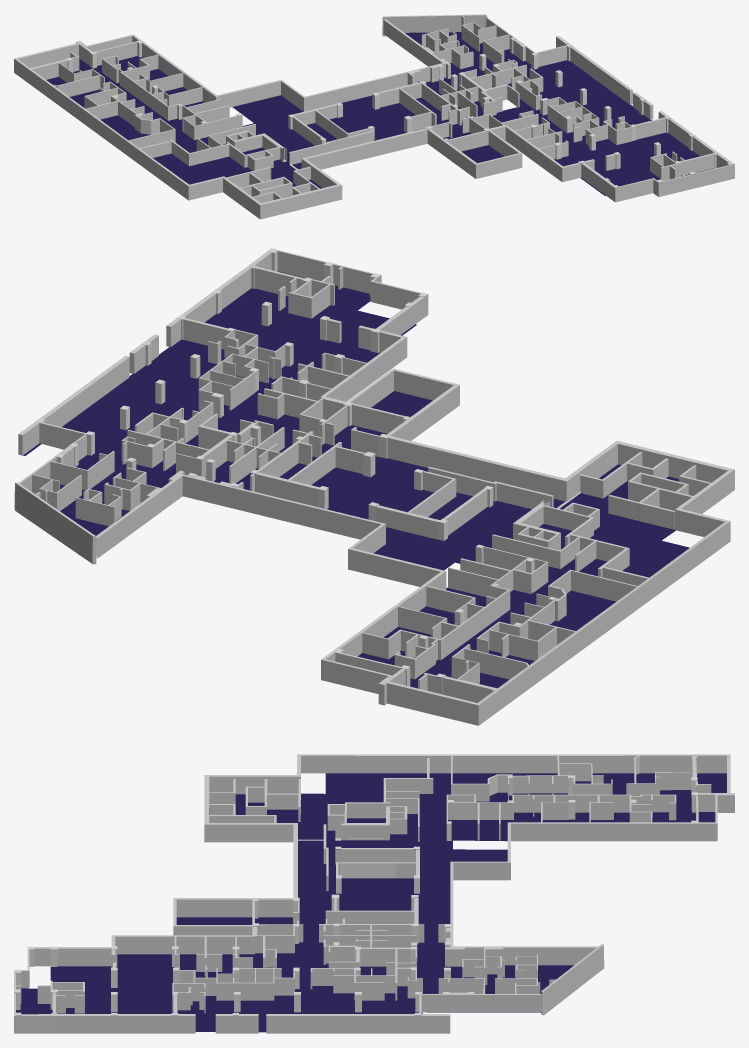
Rendered from hospital1.glb.
3 views of the same model, one above another, from view 1: azimuth 30°, elevation 25°; view 2: azimuth 150°, elevation 25°; view 3: azimuth 270°, elevation 25° (orthographic). The views are drawn at different scales.
Parts seen in each view (by area): view 1: Cube.003, floor, Cube.001; view 2: Cube.003, floor, Cube.001; view 3: Cube.003, floor, Cube.001, DMB_GUCCI_1201-edited.
Part boxes in pixels (box(x1,y1,x2,y2)): Cube.003: box(14, 14, 734, 219); floor: box(46, 32, 713, 197); Cube.001: box(66, 37, 734, 187); Cube.003: box(14, 249, 734, 725); floor: box(14, 271, 689, 688); Cube.001: box(35, 248, 555, 686); Cube.003: box(14, 754, 734, 1033); floor: box(15, 773, 726, 1032); Cube.001: box(14, 775, 698, 1015); DMB_GUCCI_1201-edited: box(358, 863, 395, 878).
Size of the model in its own units: 30.71 by 1.34 by 35.74.
